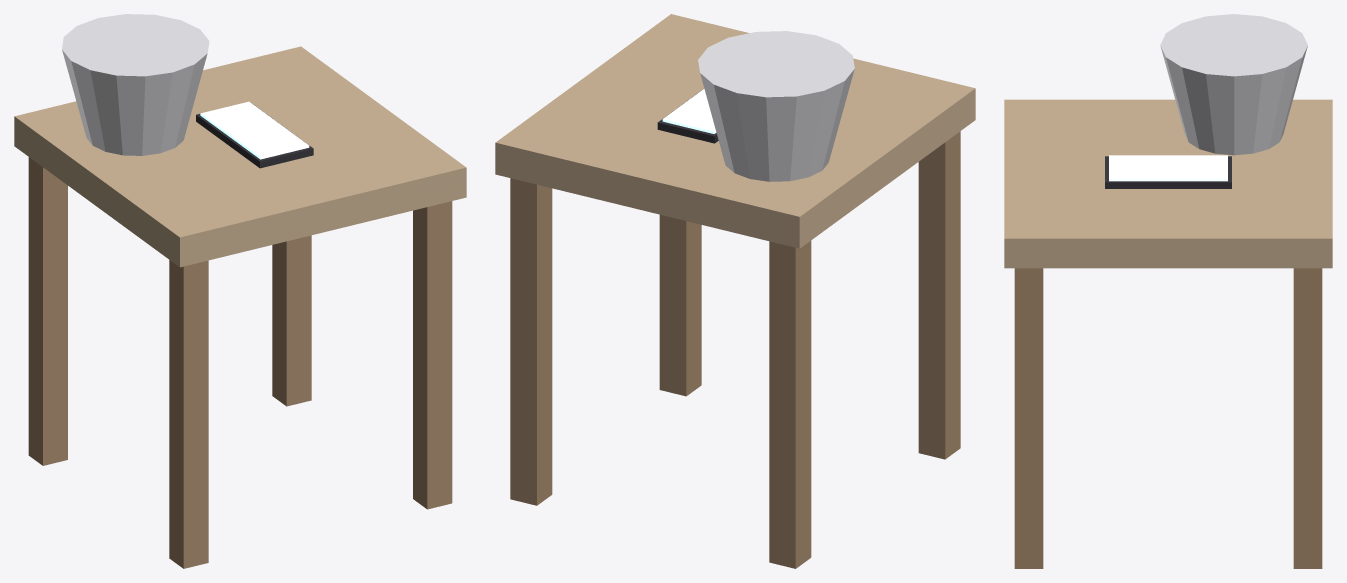
File: side_table.glb
3 renders of one model, left to right at view 1: azimuth 30°, elevation 25°; view 2: azimuth 150°, elevation 25°; view 3: azimuth 270°, elevation 25°, orthographic. The views are drawn at different scales.
Parts seen in each view (by area): view 1: side_table; view 2: side_table; view 3: side_table.
Boxes of the visible parts, x1,y1,x2,y2 form: side_table: (14,14,466,568); side_table: (495,14,975,568); side_table: (1004,14,1332,568).
Size of the model in its own units: 0.4 by 0.57 by 0.4.
